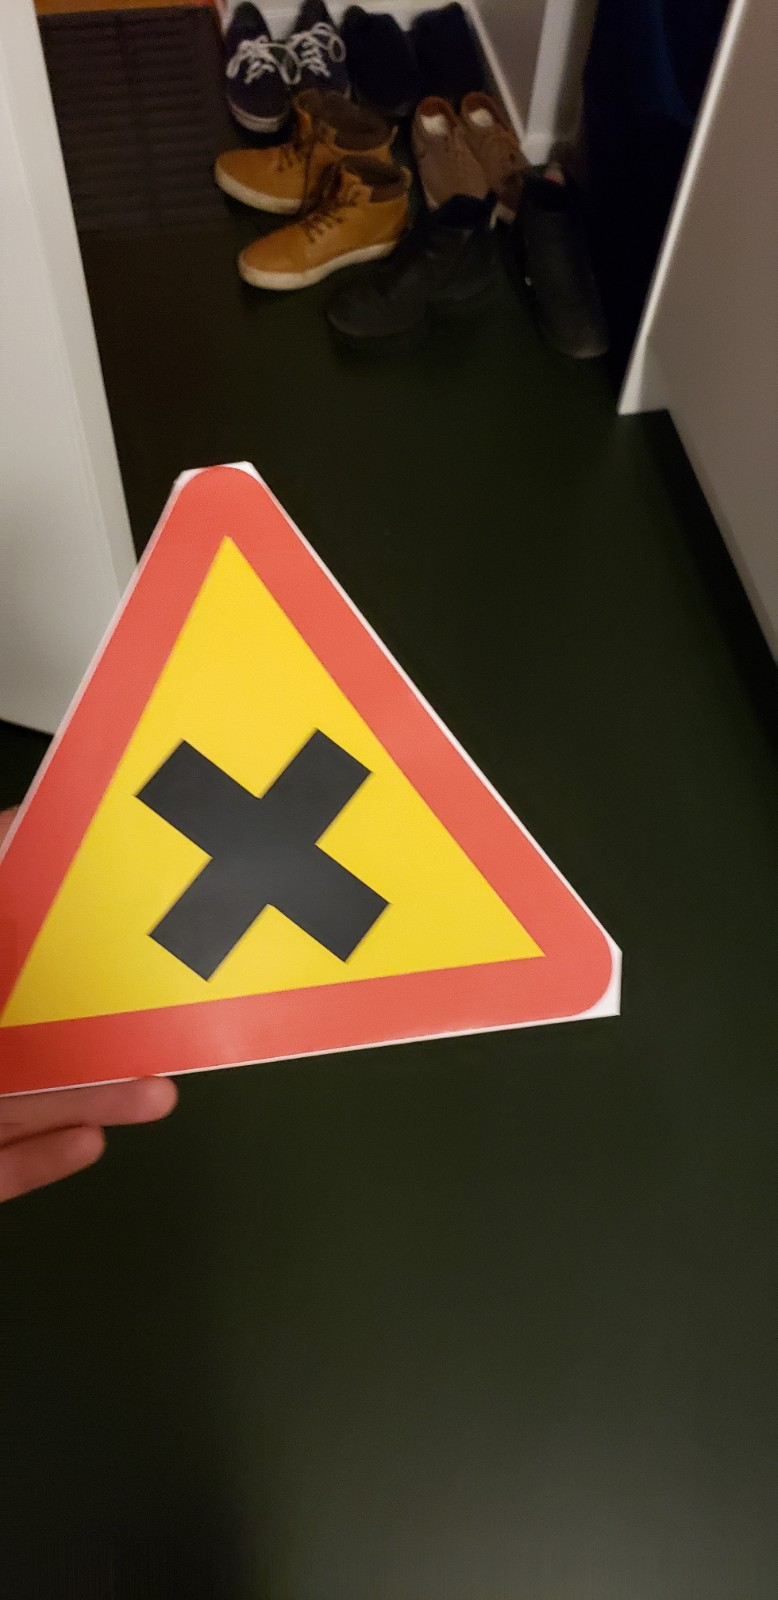junction: (9, 433, 663, 1085)
